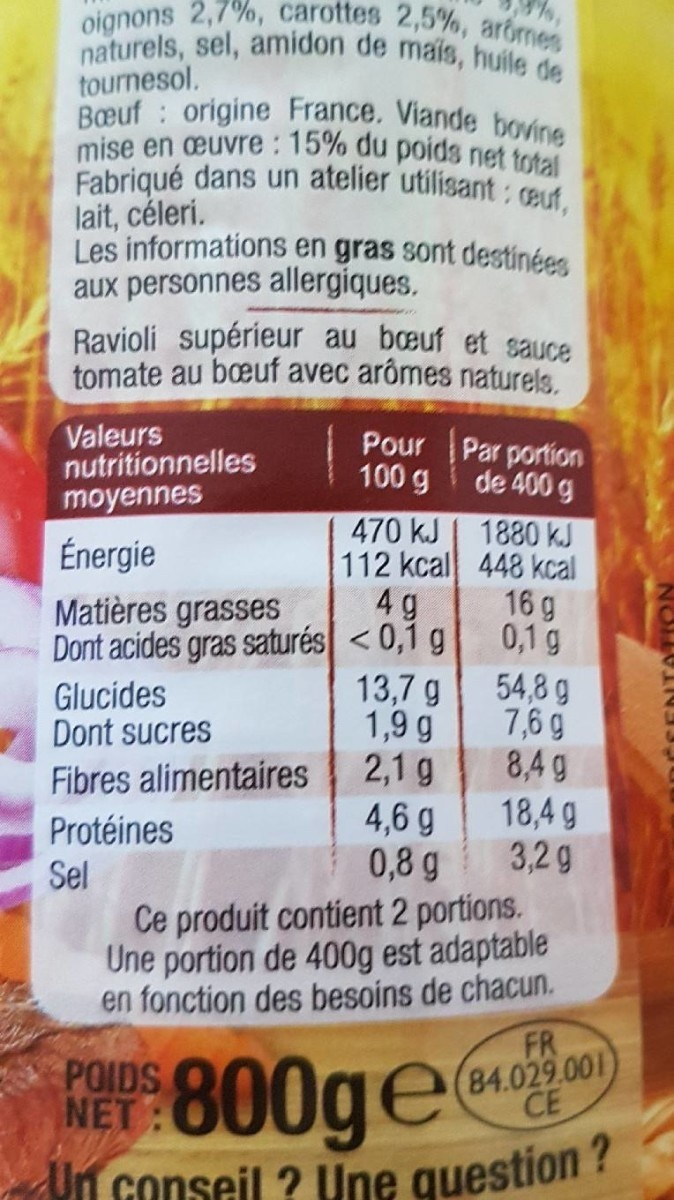table: (38, 412, 612, 1017)
